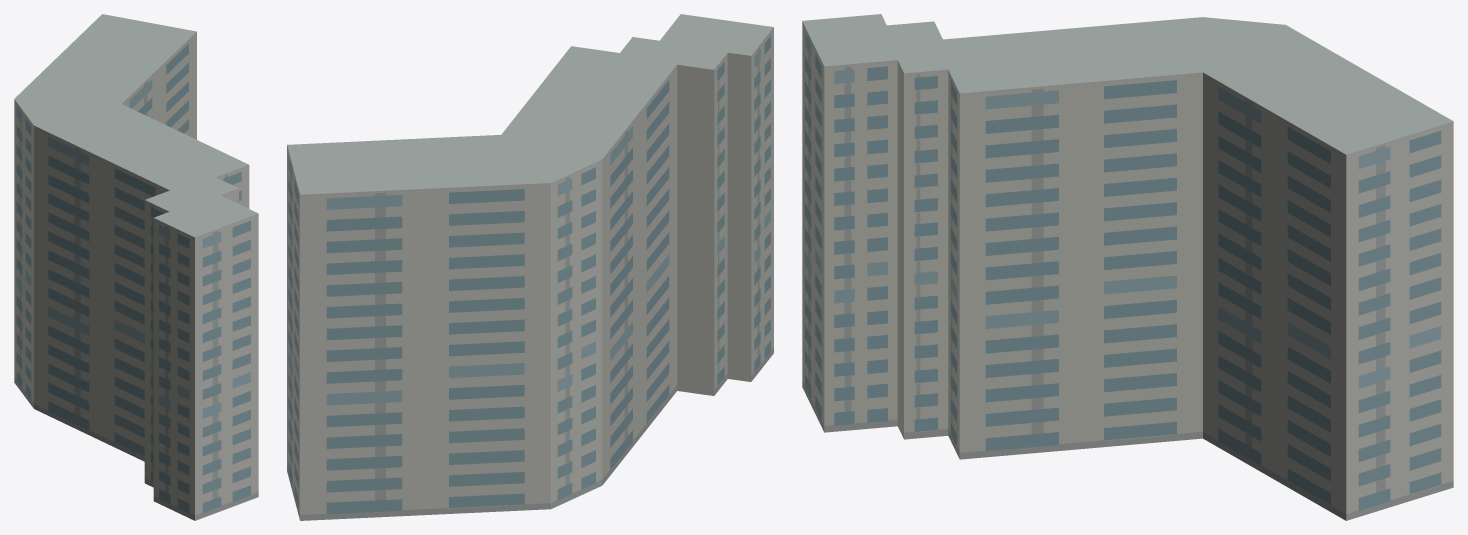
The model's file is residential-a694dd3d-b828-4fd6-bd73-9650257cfd8b.glb.
3 views of the same model, side by side, from view 1: azimuth 30°, elevation 25°; view 2: azimuth 150°, elevation 25°; view 3: azimuth 270°, elevation 25° (orthographic). The views are drawn at different scales.
Parts seen in each view (by area): view 1: residential-a694dd3d-b828-4fd6-bd73-9650257cfd8b.tmp; view 2: residential-a694dd3d-b828-4fd6-bd73-9650257cfd8b.tmp; view 3: residential-a694dd3d-b828-4fd6-bd73-9650257cfd8b.tmp.
Part boxes in pixels (x1,y1,x2,y2): residential-a694dd3d-b828-4fd6-bd73-9650257cfd8b.tmp: (14, 14, 258, 520); residential-a694dd3d-b828-4fd6-bd73-9650257cfd8b.tmp: (287, 14, 773, 520); residential-a694dd3d-b828-4fd6-bd73-9650257cfd8b.tmp: (802, 14, 1453, 520).
Size of the model in its own units: 32.99 by 40 by 64.51.
